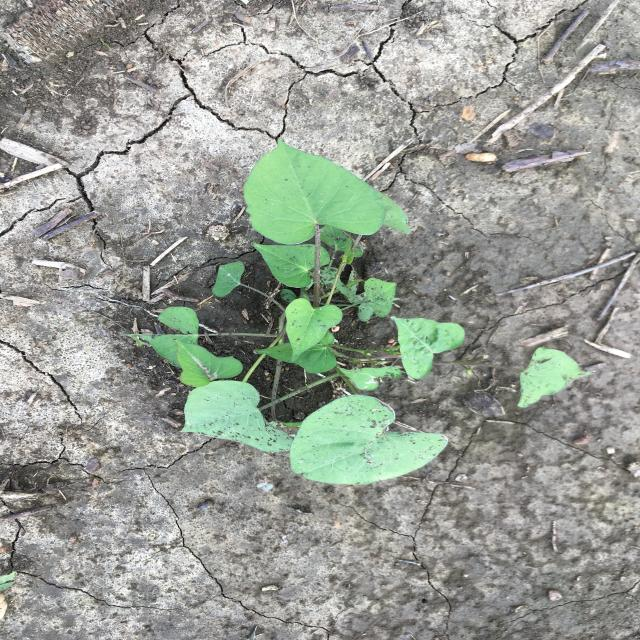MorningGlory: (124, 133, 593, 488)
